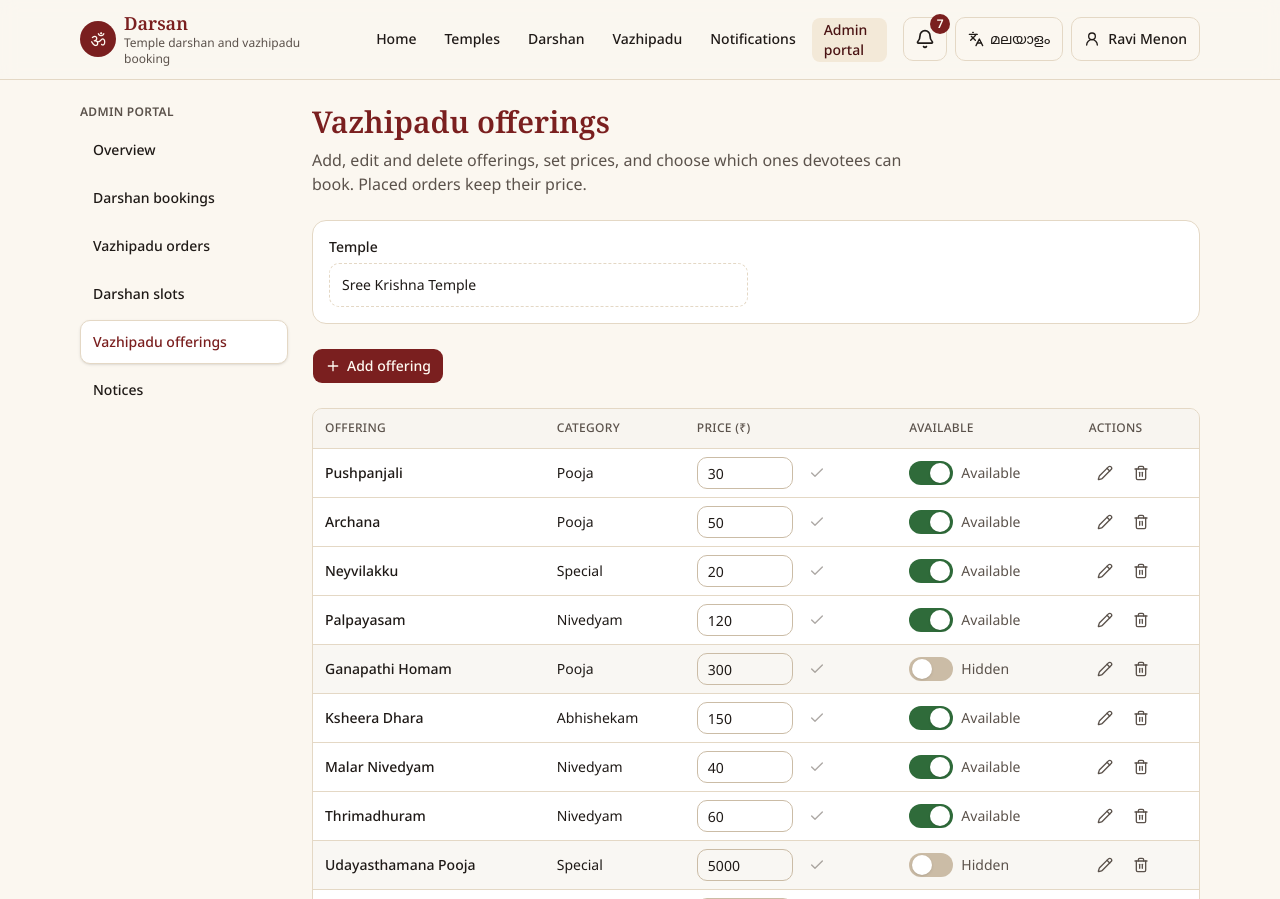
Test case: Offerings (staff) › deletes an offering after confirming
Click the button named "Delete Archana".
click(1141, 522)  # box x1=1125 y1=506 x2=1157 y2=538
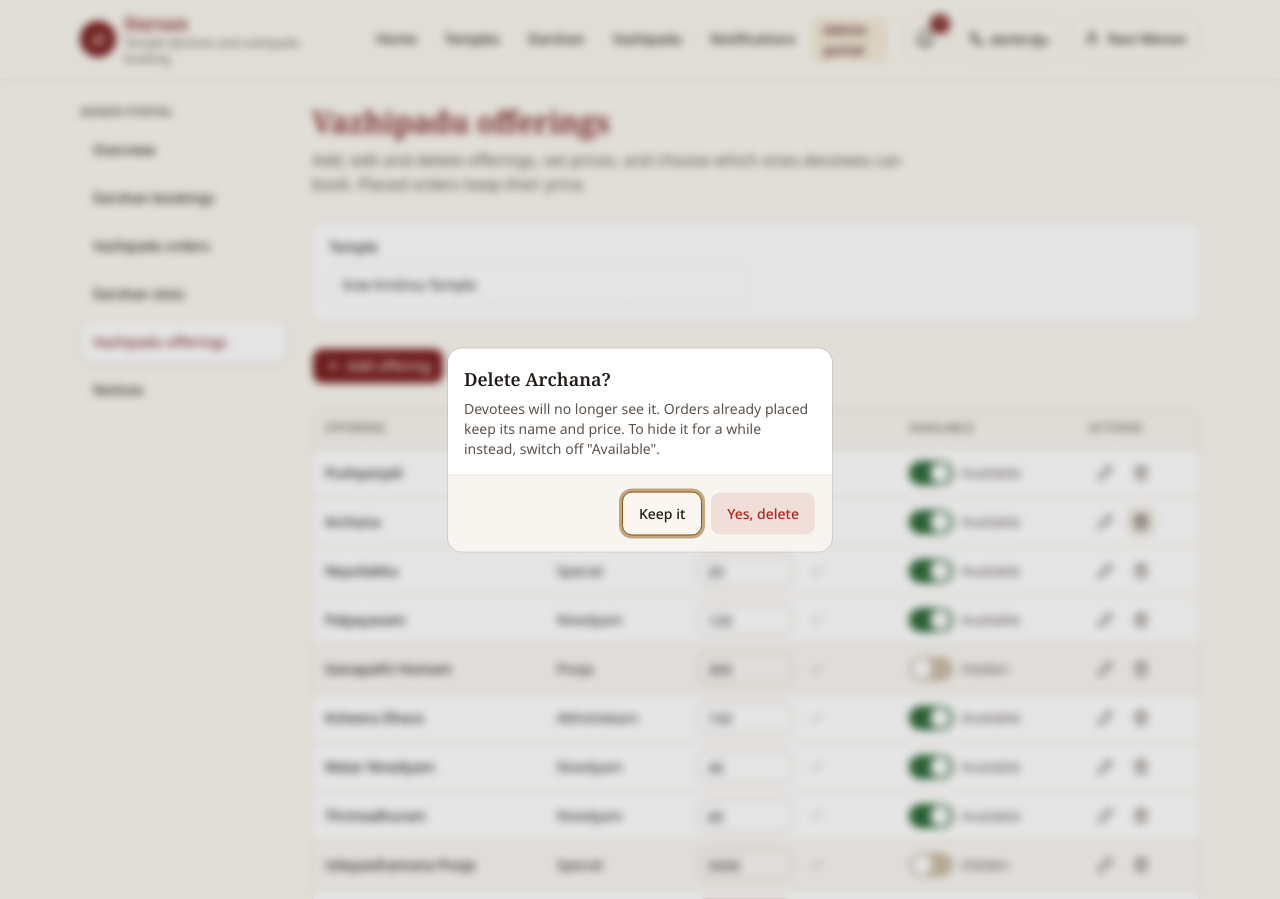
Click the button "Yes, delete".
click(763, 514)  # box x1=710 y1=492 x2=816 y2=536
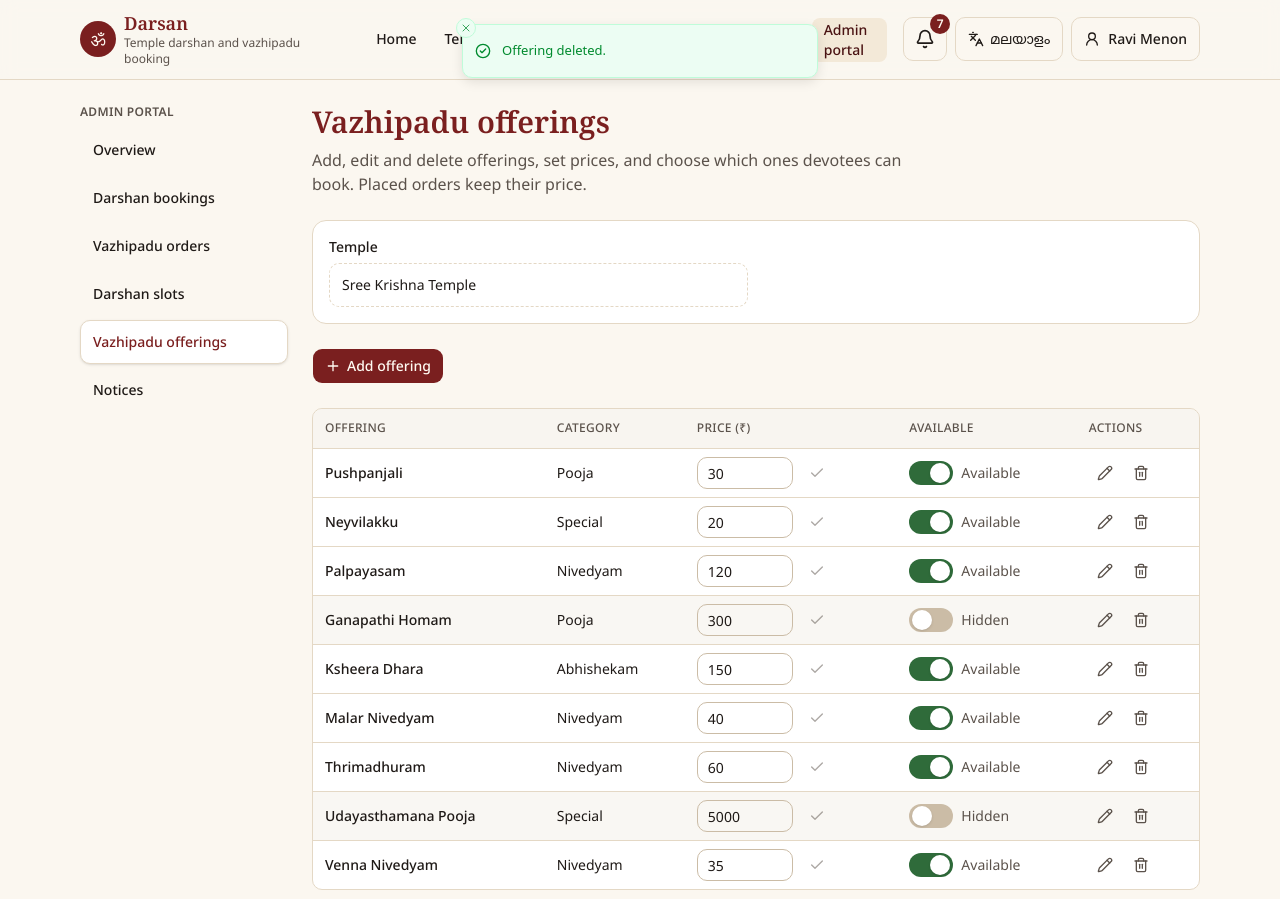
Expected: the text "Offering deleted." is shown, x1=502 y1=41 x2=606 y2=60
